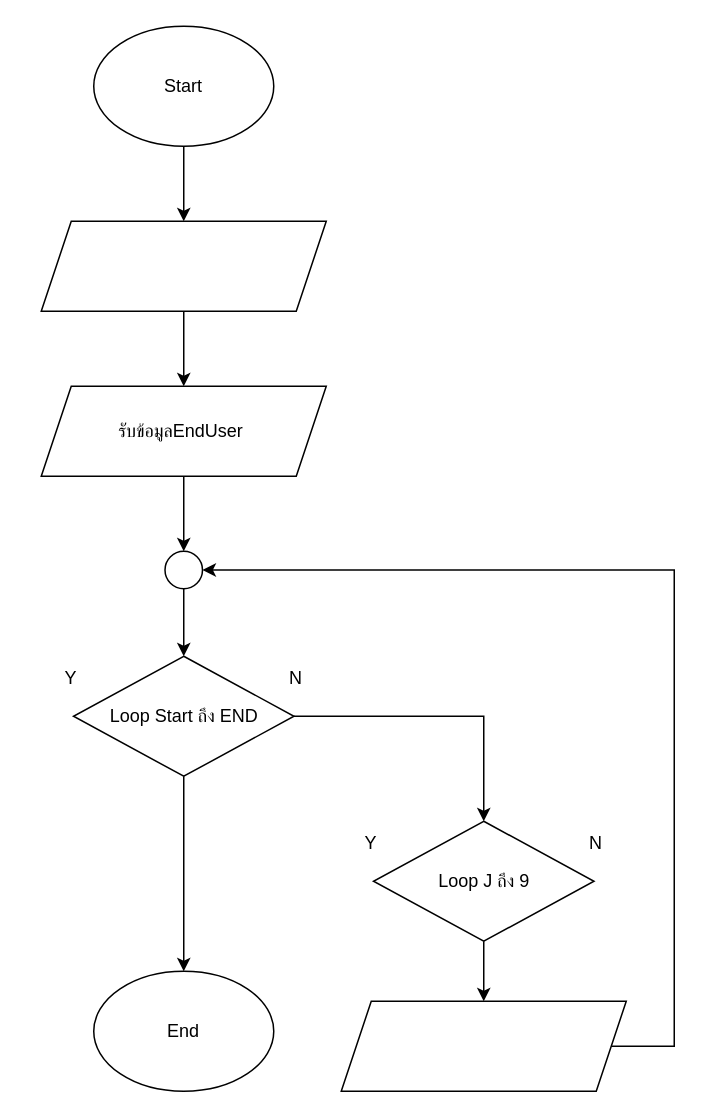
This 713x1118 diagram has some shape labels left out. Each missing label, with the centre of its shape:
รับข้อมูลStartUser: point 183,265
แสดงขอมูล แม่สูตรคูณ: point 483,1045
